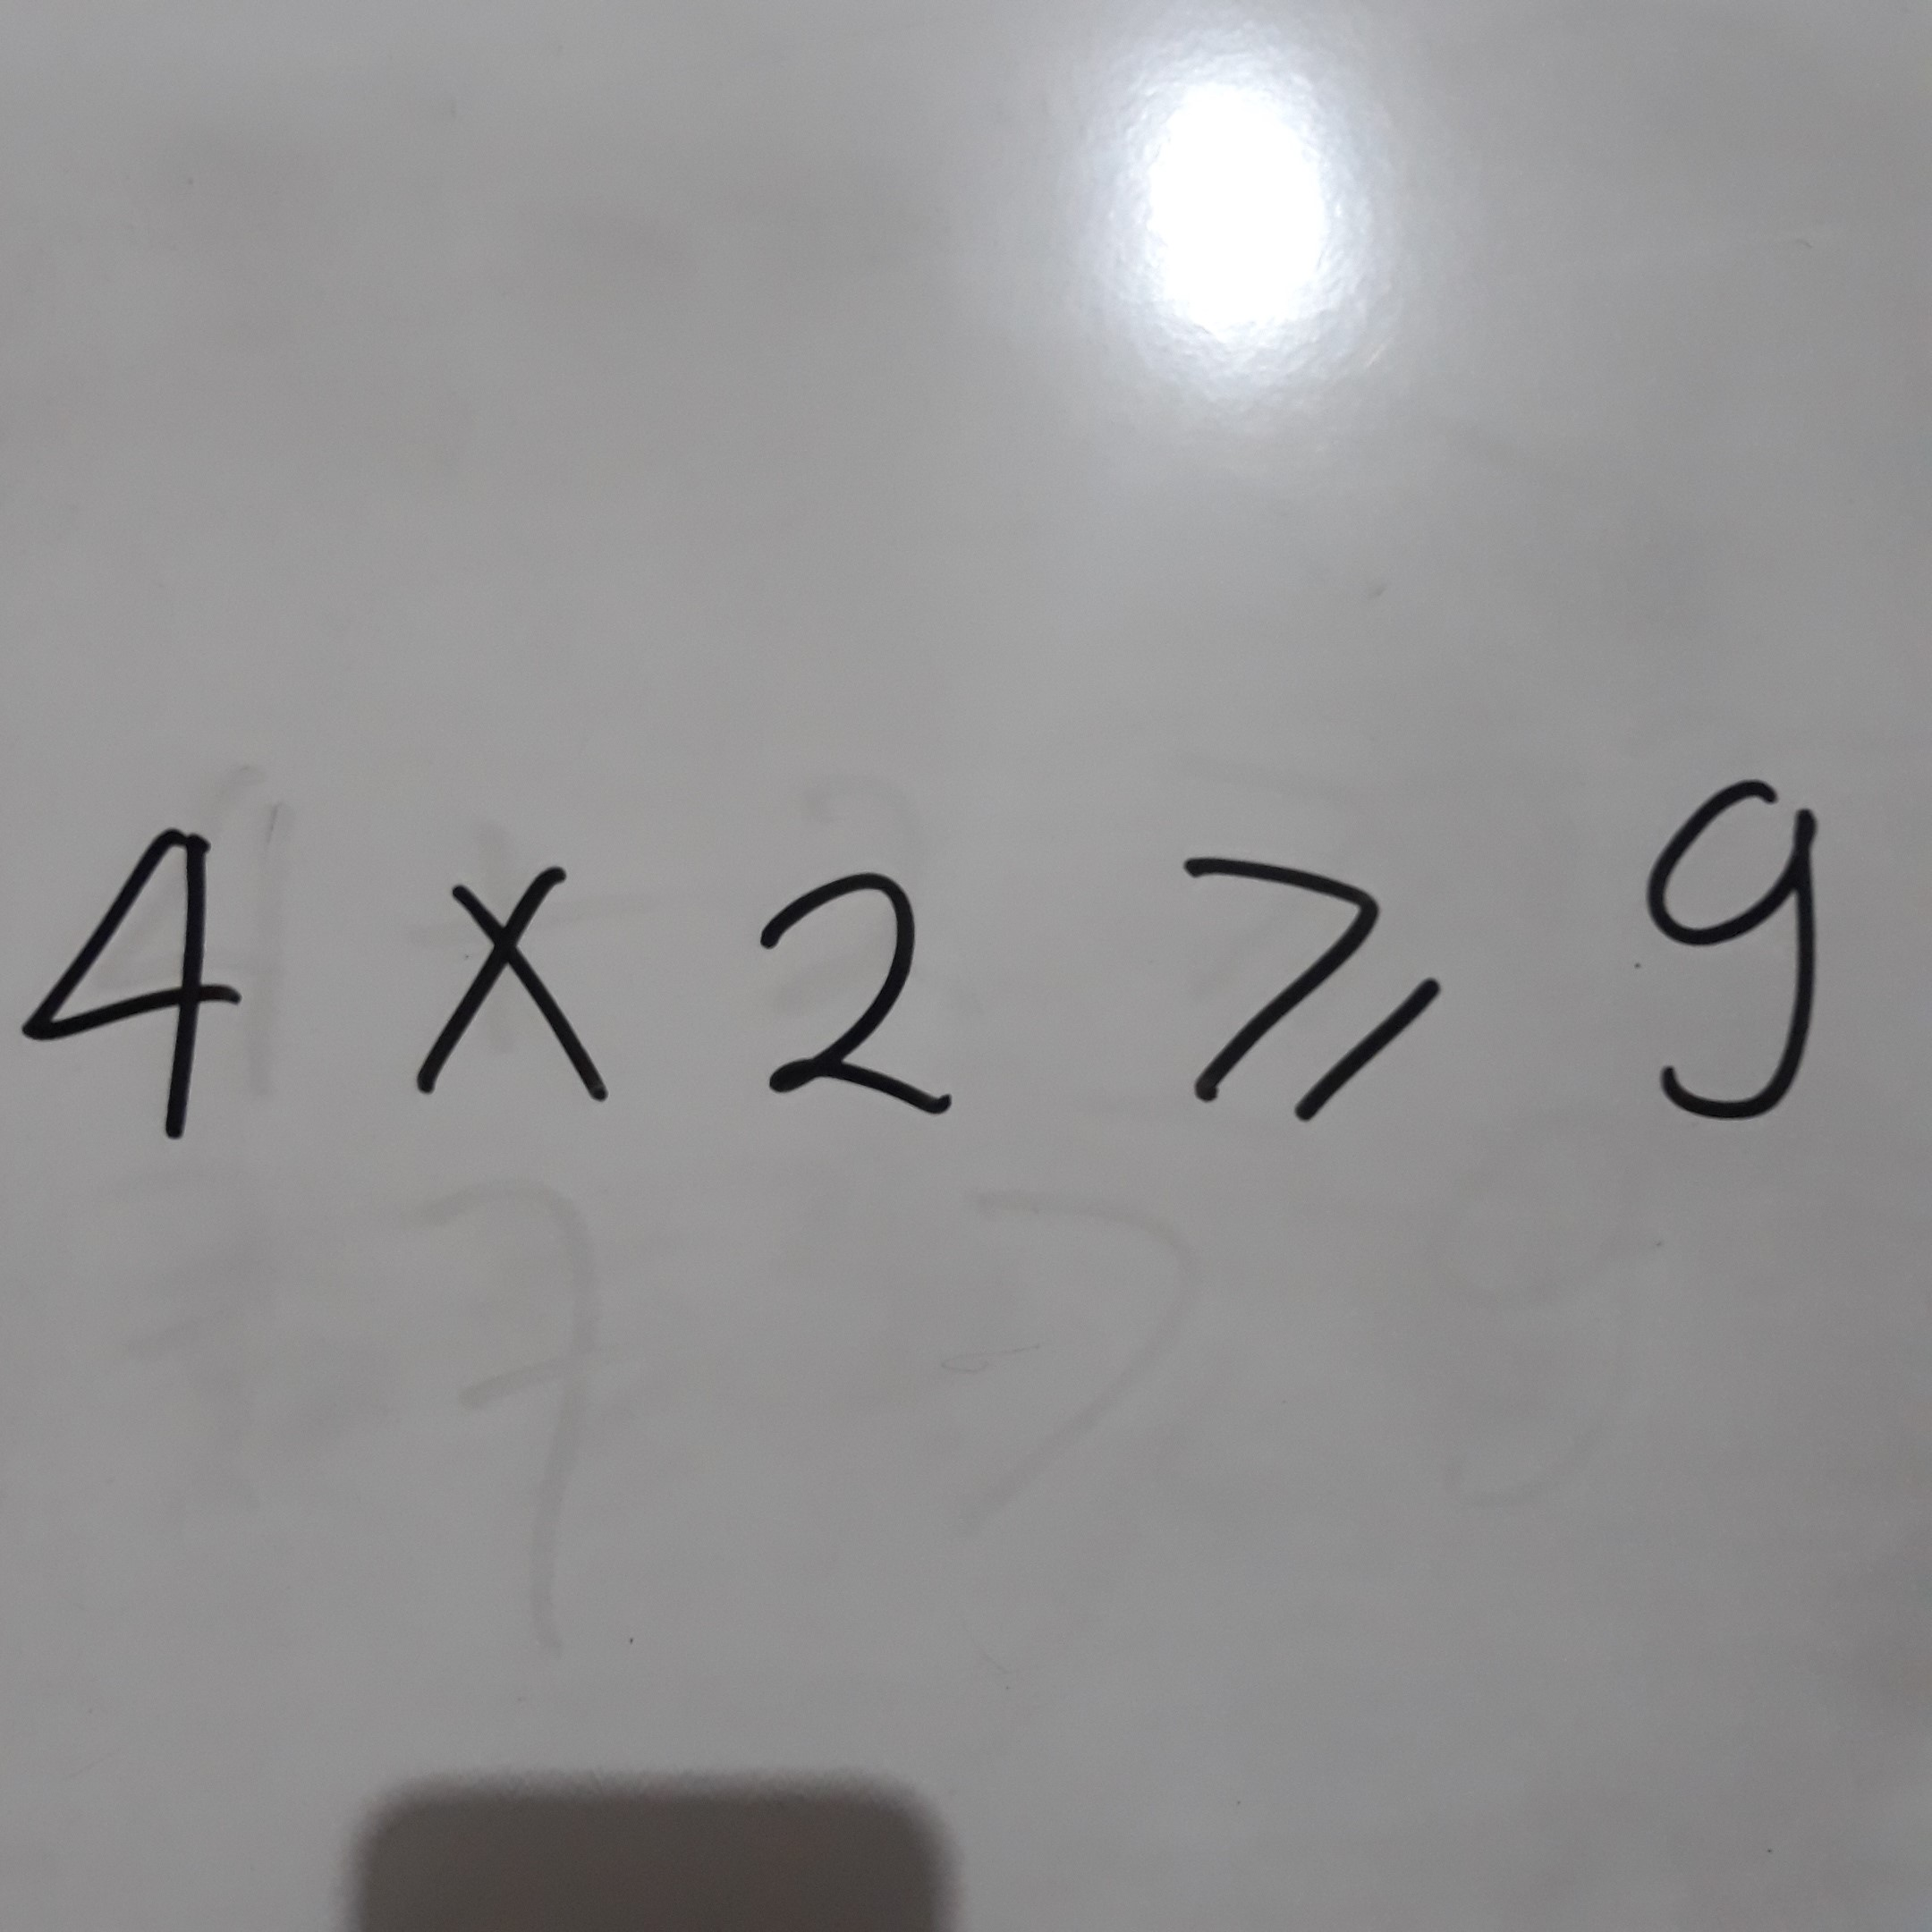morethan: (1163, 801, 1462, 1152)
multi: (388, 843, 626, 1130)
num2: (732, 857, 970, 1143)
num4: (8, 804, 278, 1169)
num9: (1601, 730, 1860, 1152)
